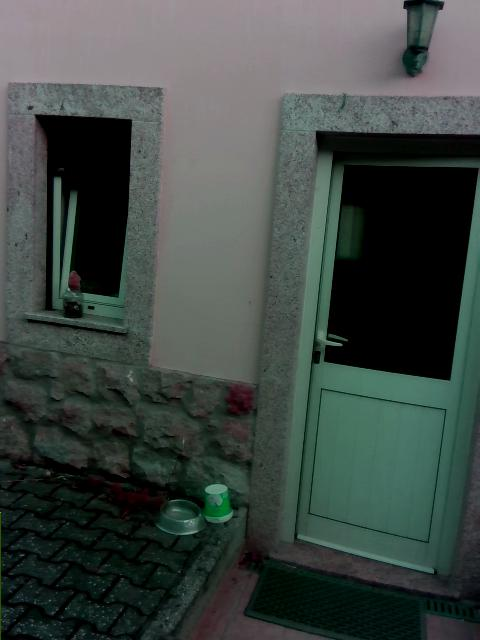closed_door: (280, 131, 479, 588)
